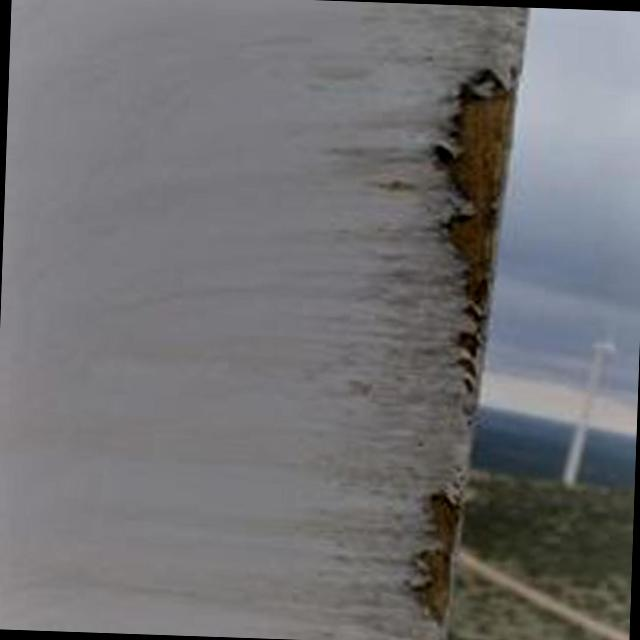corrosion: (410, 56, 525, 418), (403, 489, 468, 638)
